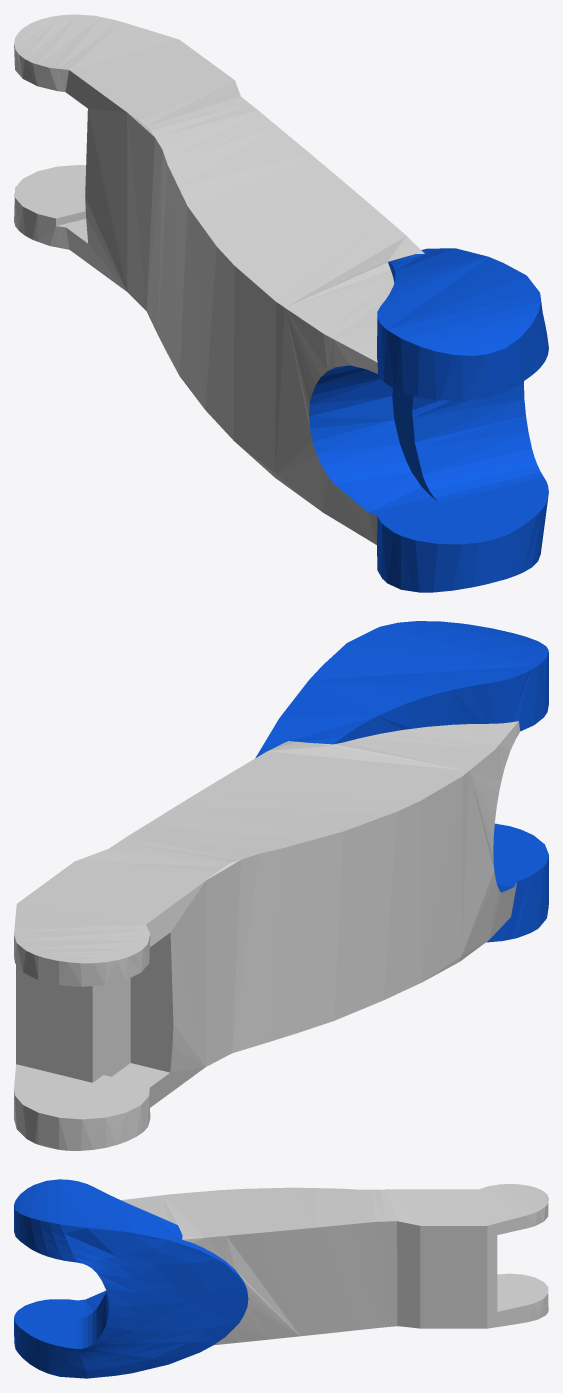
File: R_HIP_P_LINK_mesh.dae
The picture shows the model from 3 angles, top to bottom: view 1: azimuth 30°, elevation 25°; view 2: azimuth 150°, elevation 25°; view 3: azimuth 270°, elevation 25°; orthographic projection. The views are drawn at different scales.
Parts seen in each view (by area): view 1: R_HIP_P_LINK (×2); view 2: R_HIP_P_LINK (×2); view 3: R_HIP_P_LINK (×2).
Part boxes in pixels (x1,y1,x2,y2): R_HIP_P_LINK (×2): (14,14,548,592); R_HIP_P_LINK (×2): (14,621,548,1150); R_HIP_P_LINK (×2): (14,1179,548,1378).
Bounding box in the file's own units: 0.1097 × 0.134 × 0.4259.
